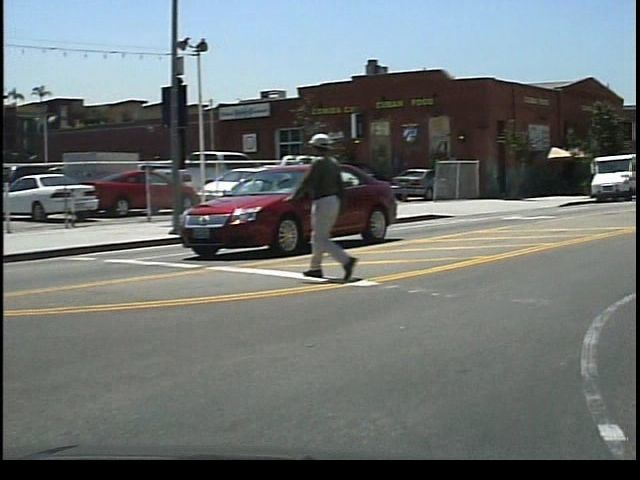person: (301, 130, 376, 293)
